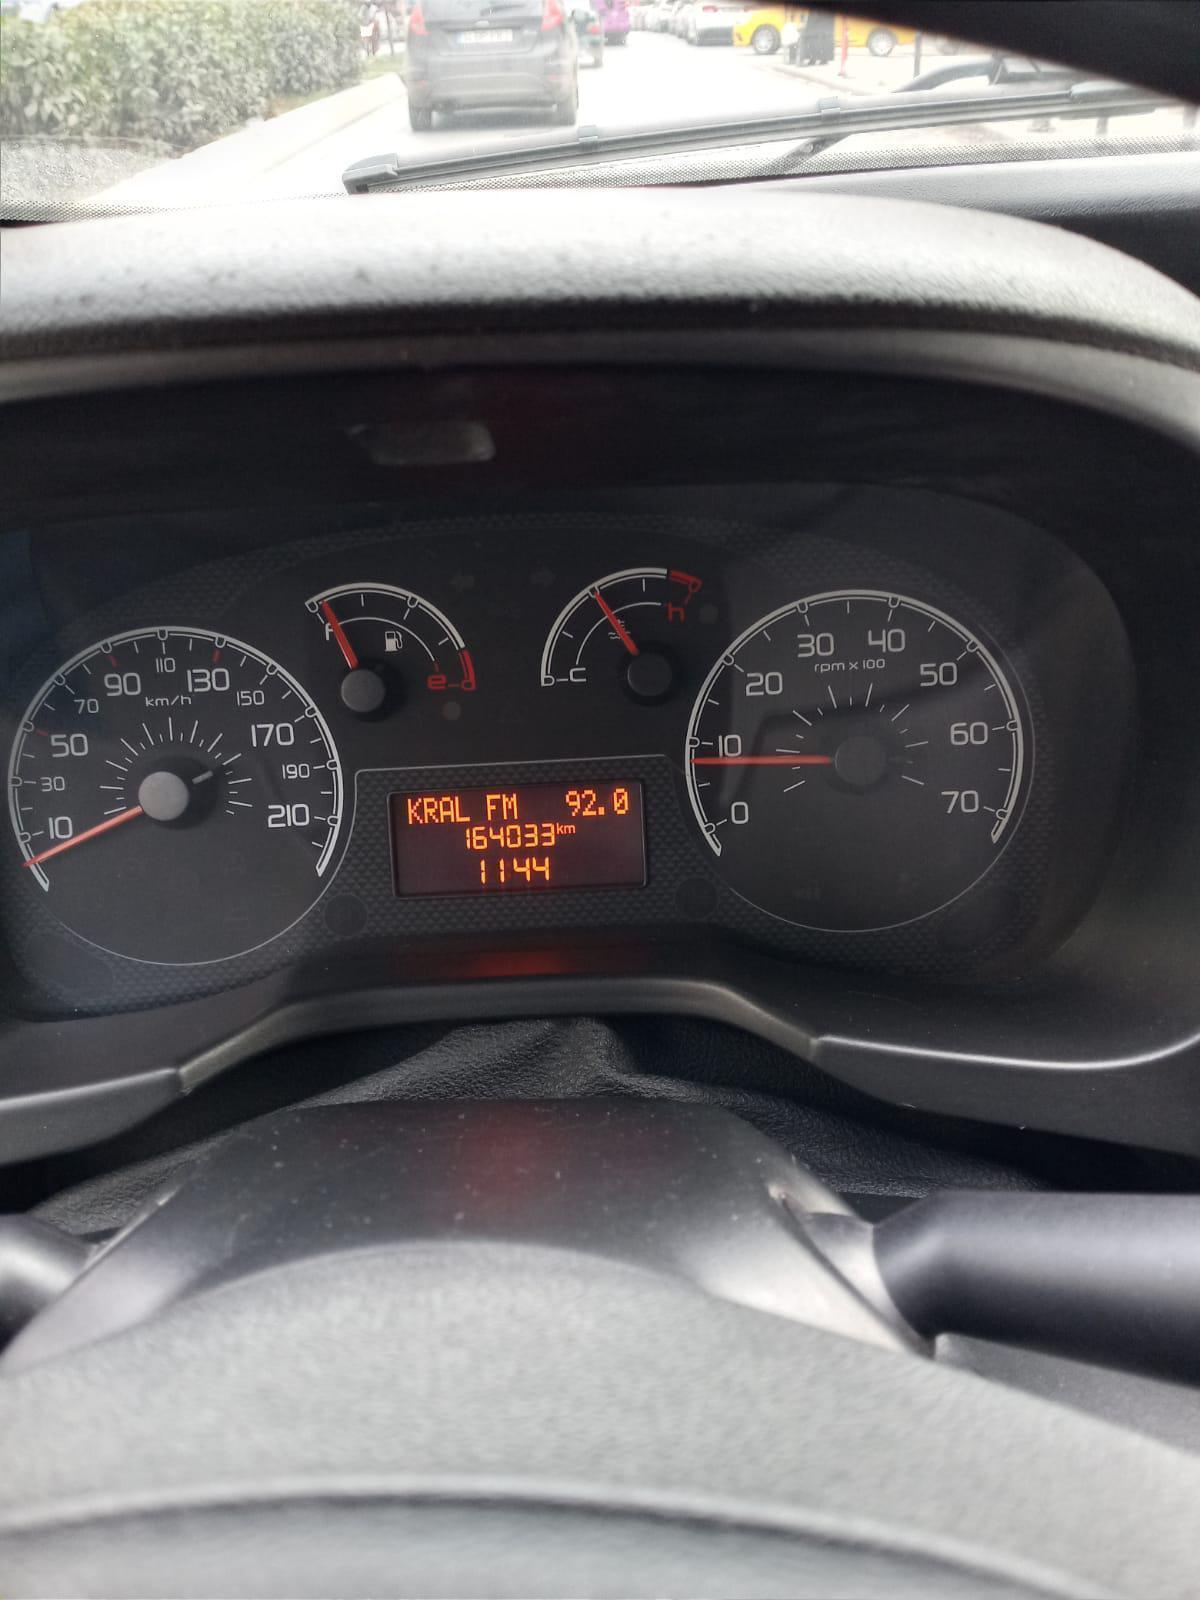,: (597, 804, 606, 816)
0: (610, 785, 632, 816), (505, 823, 521, 848)
1: (474, 855, 490, 884), (494, 854, 509, 884), (460, 825, 471, 850)
2: (581, 787, 597, 818)
3: (521, 821, 539, 848), (539, 821, 555, 848)
4: (531, 854, 551, 881), (511, 855, 529, 883), (488, 824, 504, 850)
6: (471, 825, 488, 850)
9: (563, 787, 581, 818)
X: (405, 795, 424, 825), (453, 792, 471, 821), (502, 792, 519, 821), (422, 795, 439, 825), (484, 792, 500, 820), (439, 795, 454, 823), (563, 823, 579, 837), (555, 820, 563, 837)
odometer: (384, 776, 652, 902)
